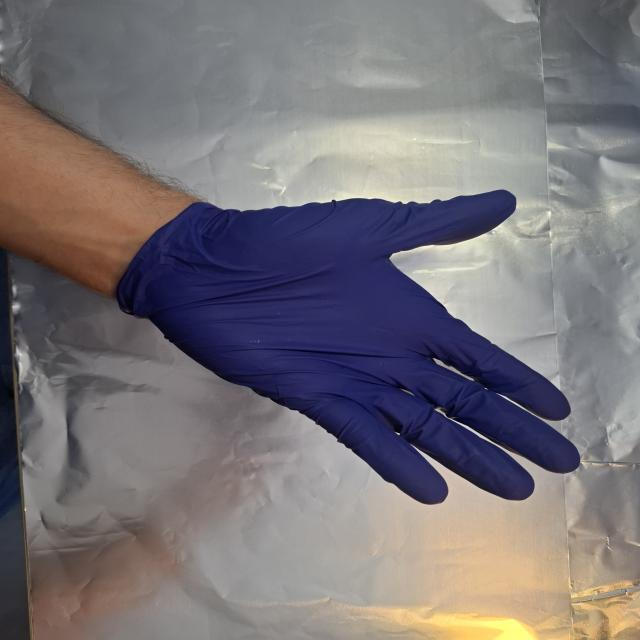glove_on: (115, 187, 584, 507)
